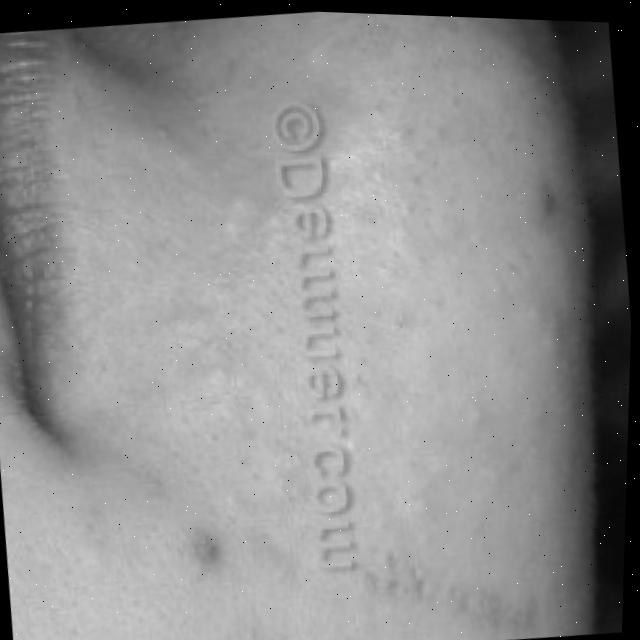Acne: (383, 536, 509, 640), (178, 522, 228, 579), (518, 180, 560, 241)
